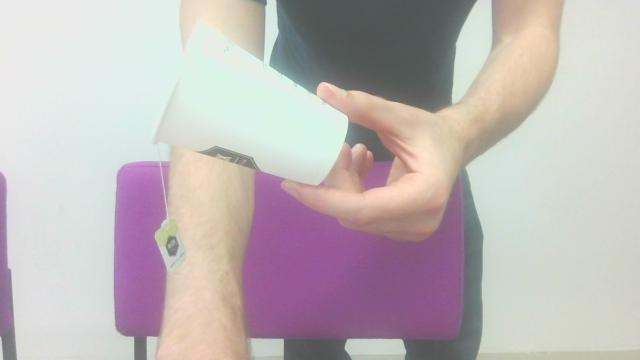cup: (145, 11, 351, 189)
